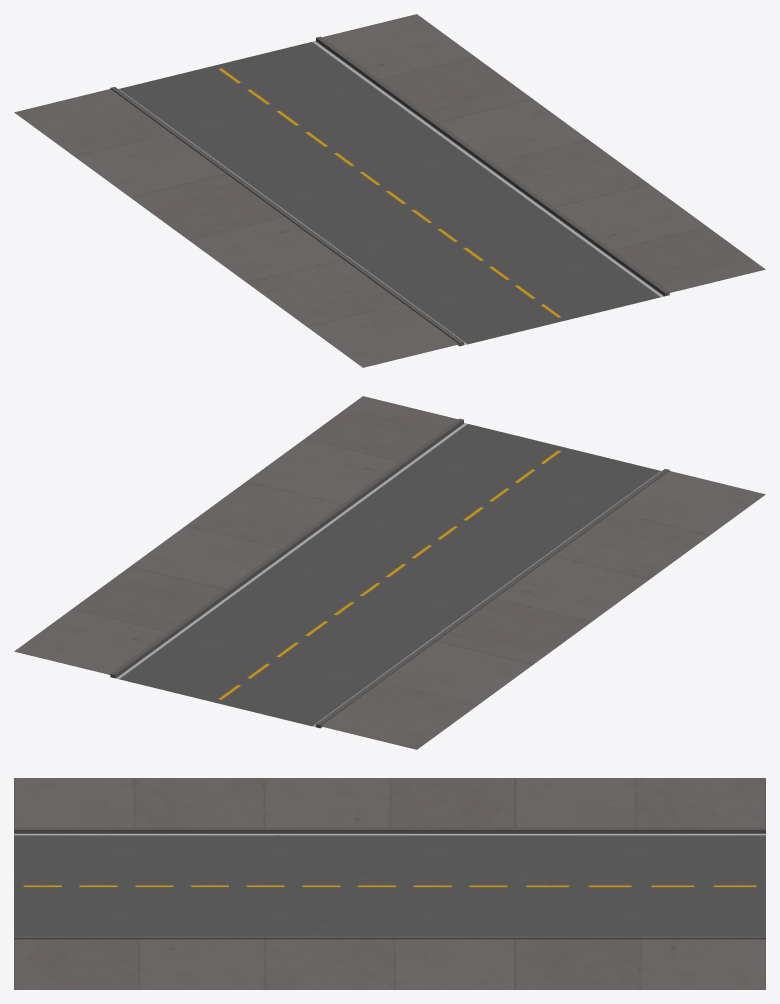
Rendered from SM_Floor_Road_01_L.fbx.
The picture shows the model from 3 angles, top to bottom: view 1: azimuth 30°, elevation 25°; view 2: azimuth 150°, elevation 25°; view 3: azimuth 270°, elevation 25°; orthographic projection. The views are drawn at different scales.
Parts seen in each view (by area): view 1: SM_Floor_Road_01_L; view 2: SM_Floor_Road_01_L; view 3: SM_Floor_Road_01_L.
Part boxes in pixels (left/top/right/bottom): SM_Floor_Road_01_L: left=14, top=14, right=765, bottom=367; SM_Floor_Road_01_L: left=14, top=396, right=765, bottom=749; SM_Floor_Road_01_L: left=14, top=778, right=765, bottom=989.
Bounding box in the file's own units: 10 × 0.075 × 15.
